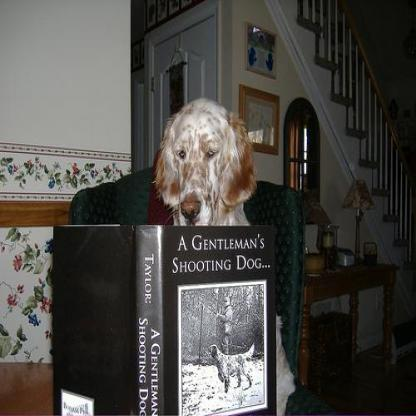English_setter: (148, 92, 299, 414)
